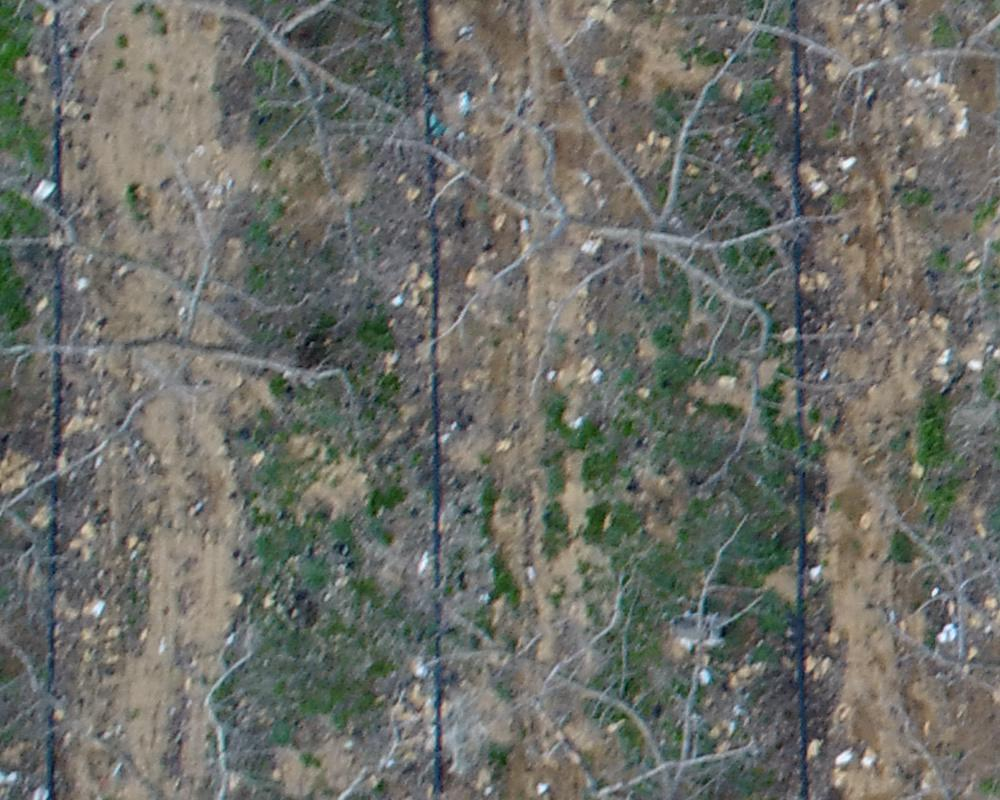apple: (320, 10, 843, 391), (423, 520, 846, 790), (10, 191, 358, 517), (16, 10, 460, 232), (687, 10, 990, 165), (844, 471, 990, 741)
